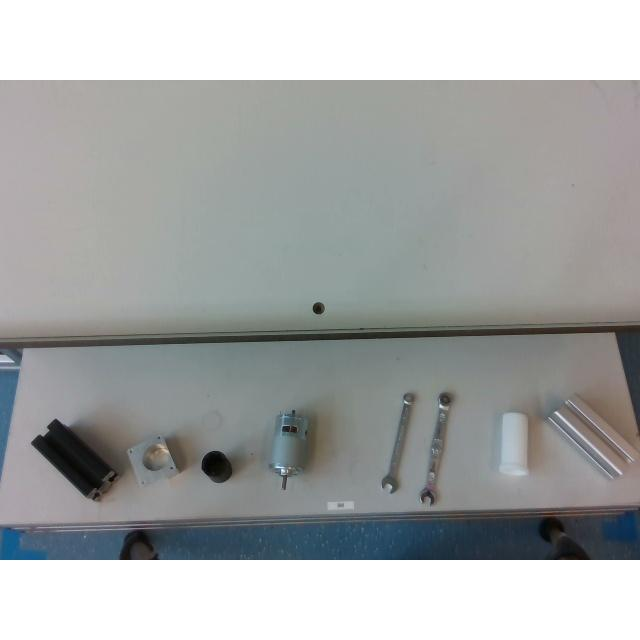Motor2: (268, 410, 308, 490)
S40_40_B: (31, 420, 118, 500)
S40_40_G: (547, 394, 637, 478)
Spacer: (499, 412, 527, 476)
Wrench: (418, 392, 454, 506)
